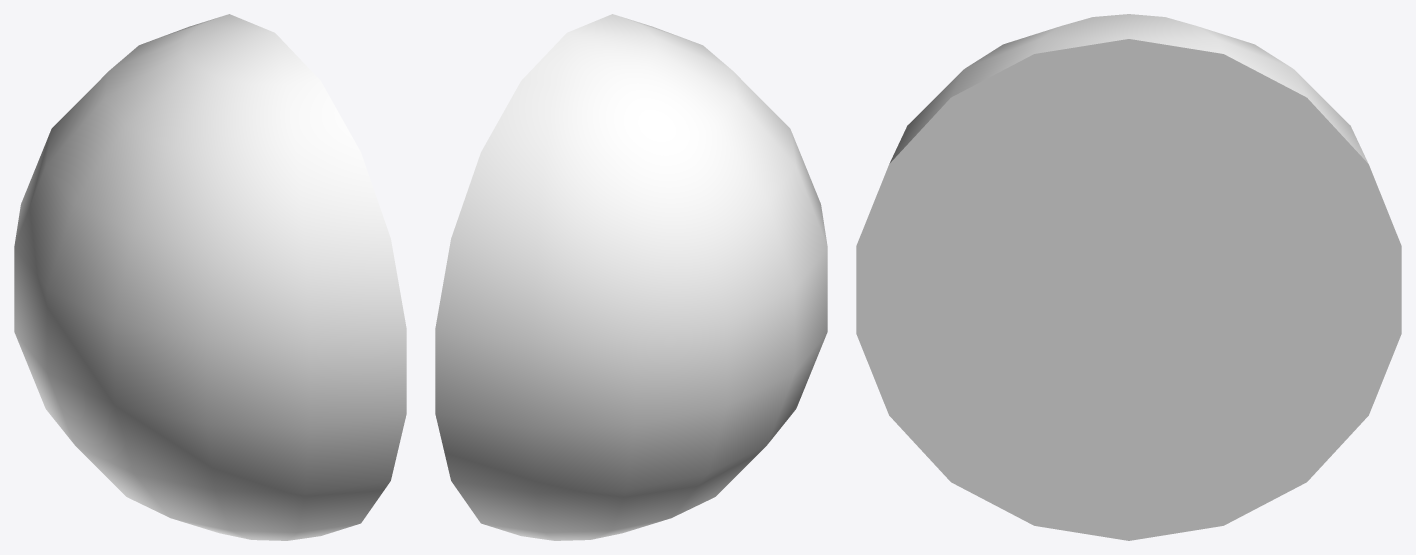
The model's file is diff_2.2.fbx.
3 renders of one model, left to right at view 1: azimuth 30°, elevation 25°; view 2: azimuth 150°, elevation 25°; view 3: azimuth 270°, elevation 25°, orthographic. The views are drawn at different scales.
Visible parts, largest first — view 1: Sphere.003; view 2: Sphere.003; view 3: Sphere.003.
Part boxes in pixels (box(x1,y1,x2,y2)): Sphere.003: box(14, 14, 406, 540); Sphere.003: box(435, 14, 827, 540); Sphere.003: box(856, 14, 1401, 540).
Size of the model in its own units: 213 by 433 by 426.
